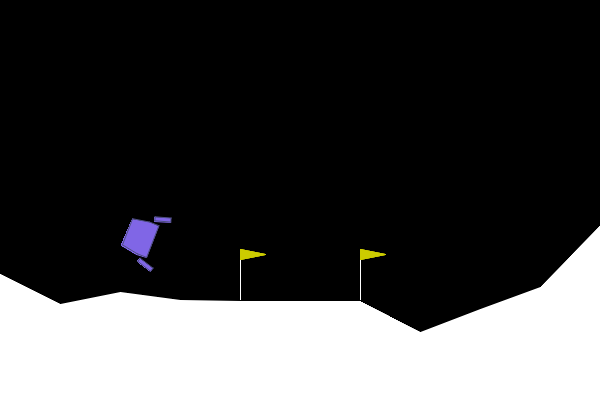lander: (114, 203, 173, 274)
